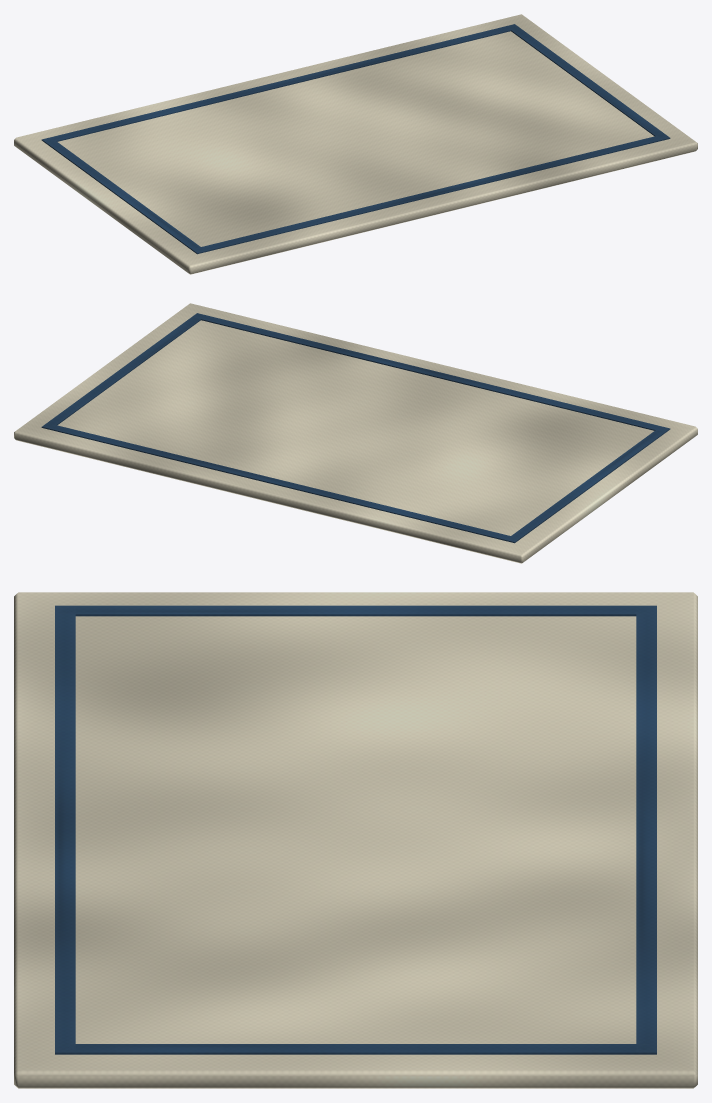
The model's file is Furn_Bath_FootMat.fbx.
3 views of the same model, one above another, from view 1: azimuth 30°, elevation 25°; view 2: azimuth 150°, elevation 25°; view 3: azimuth 270°, elevation 25° (orthographic). The views are drawn at different scales.
Parts seen in each view (by area): view 1: Furn_Bath_FootMat; view 2: Furn_Bath_FootMat; view 3: Furn_Bath_FootMat.
Boxes of the visible parts, bbox=[...] form: Furn_Bath_FootMat: bbox=[14, 14, 697, 274]; Furn_Bath_FootMat: bbox=[14, 303, 697, 563]; Furn_Bath_FootMat: bbox=[14, 592, 697, 1088].
Bounding box in the file's own units: 1 × 0.02 × 0.6.
Materials: 2 (2 with a texture image).
